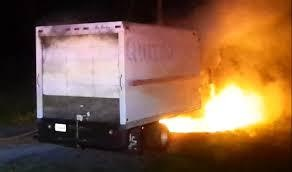fire: (169, 78, 277, 132)
